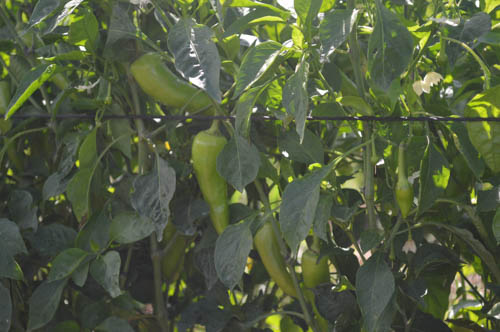ChiliPepper: (136, 53, 218, 119), (190, 130, 232, 238), (254, 218, 298, 300), (302, 252, 331, 325), (396, 172, 413, 219)
